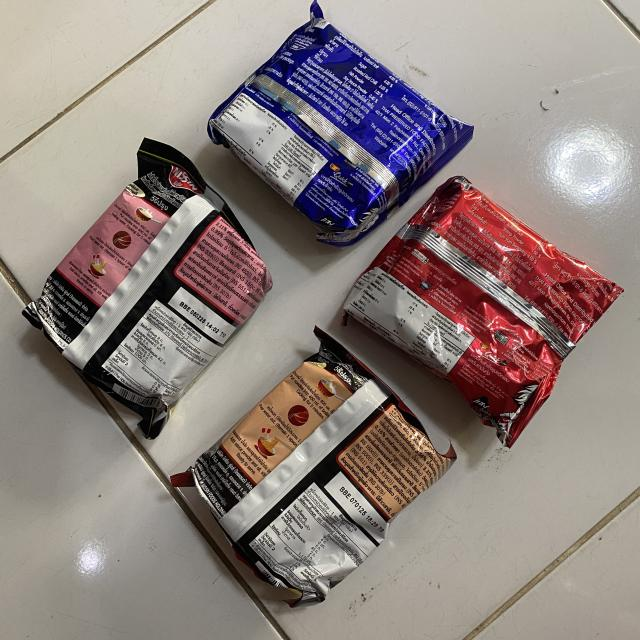plastik: (171, 328, 455, 605), (342, 176, 622, 446), (22, 139, 272, 439), (208, 1, 474, 246)
